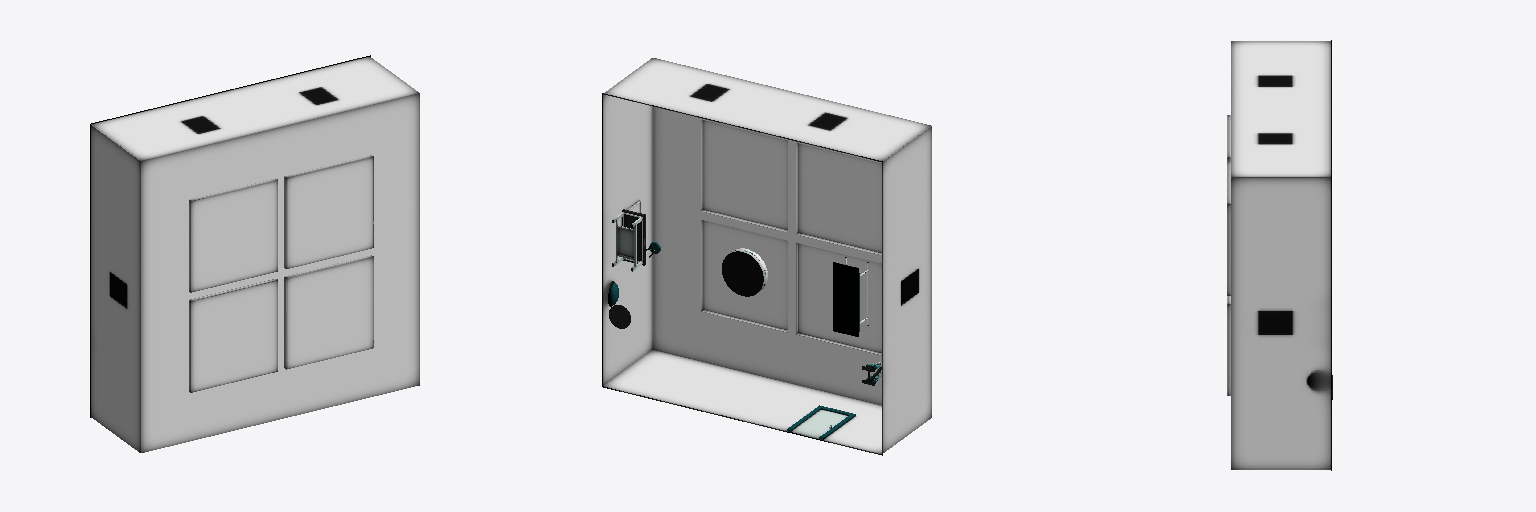
The picture shows the model from 3 angles: view 1: azimuth 30°, elevation 25°; view 2: azimuth 150°, elevation 25°; view 3: azimuth 270°, elevation 25°; orthographic projection.
Parts seen in each view (by area): view 1: RoomWhite_v04_noFloor; view 2: RoomWhite_v04_noFloor; view 3: RoomWhite_v04_noFloor.
Part boxes in pixels (x1,y1,x2,y2): RoomWhite_v04_noFloor: (90, 55, 419, 452); RoomWhite_v04_noFloor: (602, 58, 931, 455); RoomWhite_v04_noFloor: (1227, 40, 1332, 470).
Size of the model in its own units: 1400 by 1405 by 454.
1 materials, 1 textured.